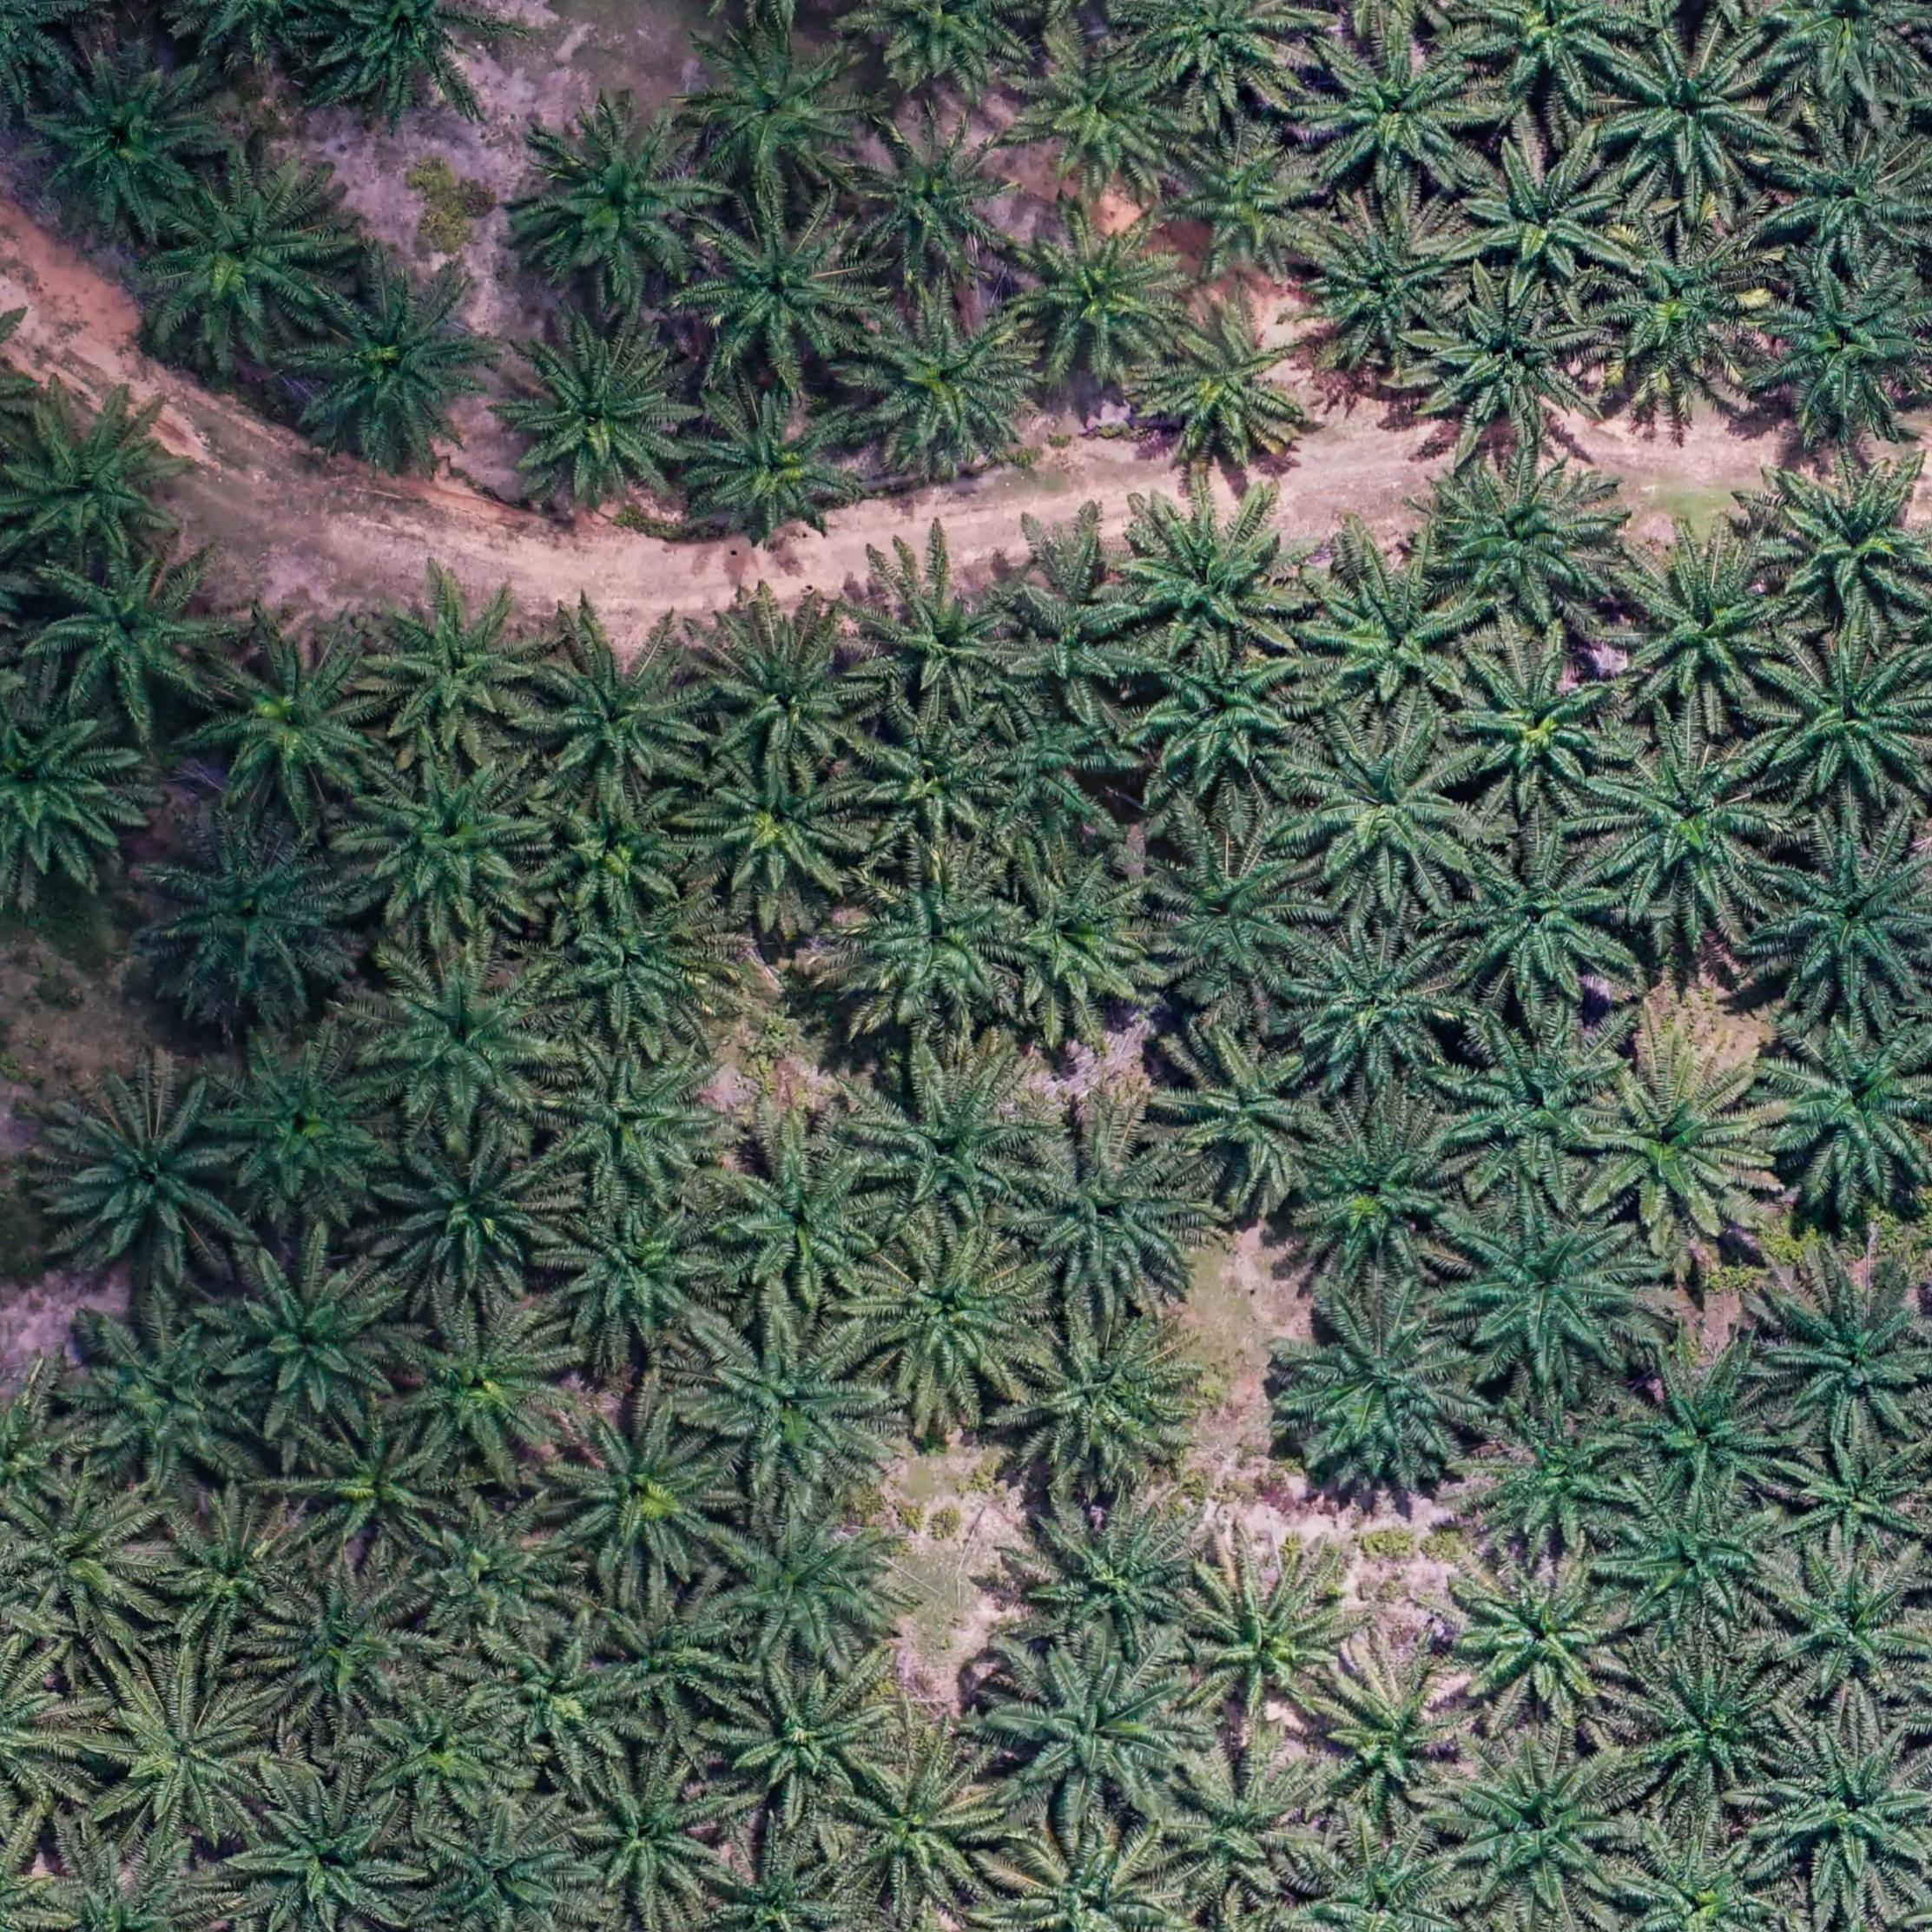palmtree: (138, 805, 361, 1012), (35, 1070, 249, 1283), (510, 97, 724, 304), (295, 253, 510, 458), (143, 150, 350, 356), (19, 534, 235, 729), (21, 34, 225, 235), (1272, 1293, 1479, 1490), (1580, 1042, 1782, 1242), (340, 745, 550, 936), (1444, 1196, 1654, 1385), (488, 317, 692, 510), (1106, 476, 1313, 662), (1401, 269, 1605, 456), (354, 945, 557, 1132), (196, 628, 395, 817), (1587, 732, 1787, 920), (1171, 1536, 1364, 1729), (1003, 1307, 1201, 1495), (1003, 1123, 1203, 1309), (1752, 807, 1932, 1010), (847, 283, 1046, 467), (1419, 449, 1622, 628), (985, 1640, 1192, 1815), (216, 1244, 407, 1433), (209, 1023, 400, 1210), (688, 1311, 883, 1495), (835, 853, 1035, 1031), (545, 1401, 736, 1587), (1606, 538, 1798, 724), (1757, 1005, 1932, 1207), (357, 571, 554, 750), (853, 1049, 1049, 1228), (678, 16, 874, 195), (524, 625, 715, 807), (83, 1660, 274, 1842), (1001, 205, 1194, 386), (0, 676, 152, 904), (1743, 255, 1930, 439), (73, 1307, 267, 1484), (1437, 1736, 1629, 1913), (536, 1031, 732, 1205), (674, 748, 872, 918), (1132, 817, 1316, 1000), (686, 198, 872, 379), (856, 1223, 1044, 1401), (715, 1497, 906, 1672), (1012, 1493, 1205, 1667), (1295, 25, 1490, 196), (1293, 720, 1479, 899), (1148, 285, 1332, 464), (375, 1122, 561, 1299), (1757, 1261, 1930, 1451), (690, 605, 879, 778), (1299, 1645, 1477, 1828), (1753, 449, 1930, 633), (1596, 23, 1780, 198), (676, 379, 876, 540), (1438, 1548, 1626, 1720), (1587, 218, 1776, 387), (711, 1129, 895, 1302), (1447, 1010, 1638, 1177), (1615, 1338, 1796, 1513), (5, 398, 186, 570), (1753, 633, 1930, 807), (987, 860, 1166, 1031), (384, 1304, 568, 1470), (1123, 642, 1313, 801), (1286, 1108, 1461, 1279), (847, 113, 1024, 283), (1005, 27, 1184, 195), (1444, 830, 1622, 998), (1293, 548, 1479, 709), (540, 1194, 727, 1353), (1295, 200, 1474, 366), (839, 1741, 1014, 1909), (1286, 918, 1465, 1083), (1447, 131, 1626, 294), (717, 1658, 899, 1815), (1760, 1723, 1930, 1890), (545, 888, 722, 1047), (1442, 644, 1621, 801), (1164, 1026, 1329, 1192), (1159, 1746, 1329, 1907), (982, 527, 1134, 706), (1759, 1545, 1928, 1704), (253, 1564, 425, 1721), (1468, 1403, 1647, 1553), (566, 1752, 732, 1913), (232, 1785, 410, 1932), (1619, 1647, 1789, 1801), (855, 559, 1030, 708), (143, 1497, 310, 1652), (1606, 1493, 1782, 1640), (531, 780, 702, 929), (849, 704, 1014, 856), (1760, 120, 1928, 269), (0, 1477, 163, 1629), (288, 1417, 455, 1564), (412, 1502, 579, 1647), (1162, 133, 1330, 276), (984, 1819, 1191, 1932), (407, 1806, 593, 1932), (589, 1580, 745, 1727), (361, 1684, 515, 1821), (474, 1628, 630, 1760), (1785, 1433, 1932, 1566)
